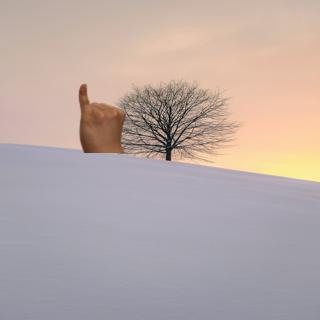FINE: (73, 81, 128, 153)
